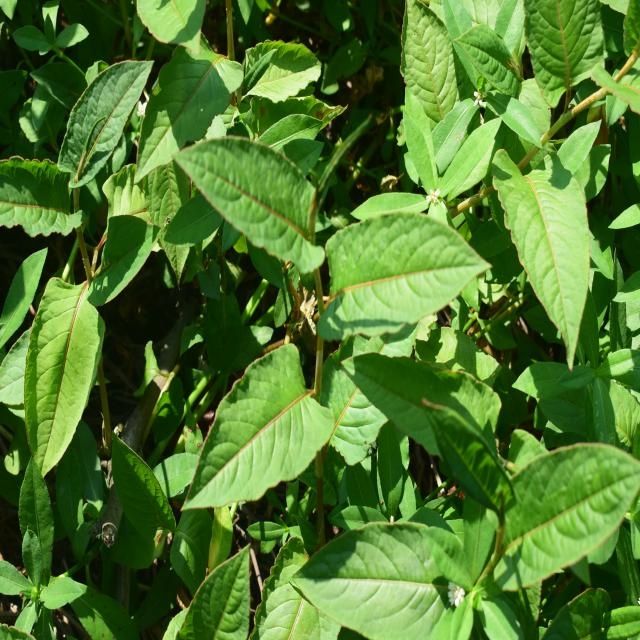Chinese_knotweed: (190, 129, 460, 500), (305, 424, 640, 630), (0, 52, 137, 458)
